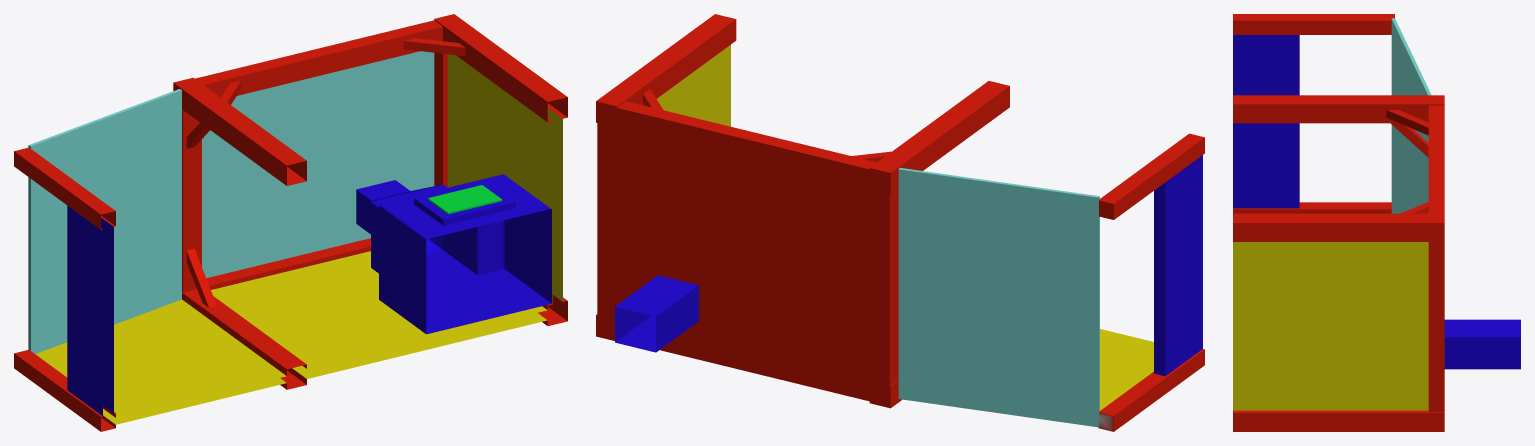
The model's file is Blacksmith.fbx.
3 views of the same model, side by side, from view 1: azimuth 30°, elevation 25°; view 2: azimuth 150°, elevation 25°; view 3: azimuth 270°, elevation 25° (orthographic). The views are drawn at different scales.
Parts seen in each view (by area): view 1: Cube.000; view 2: Cube.000; view 3: Cube.000.
Part boxes in pixels (x1,y1,x2,y2): Cube.000: [14, 14, 567, 431]; Cube.000: [596, 14, 1204, 431]; Cube.000: [1233, 14, 1520, 431].
Size of the model in its own units: 743 by 341 by 426.
